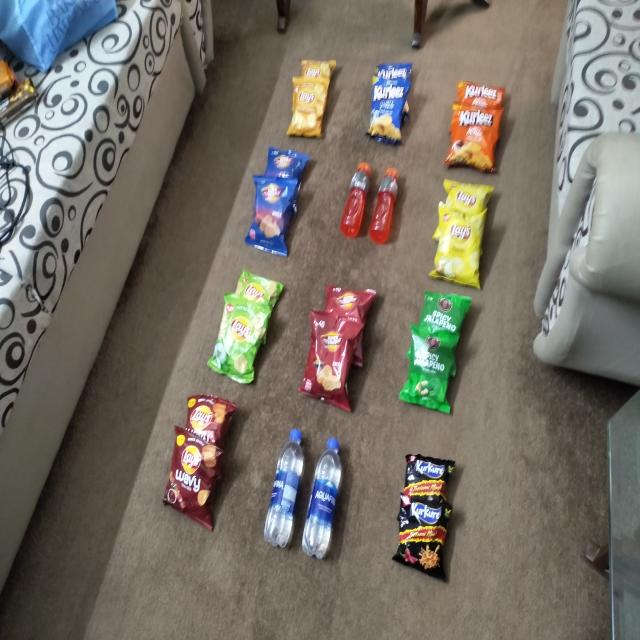Plastic: (307, 308, 363, 414), (162, 428, 220, 522), (262, 428, 304, 548), (406, 328, 458, 412), (248, 172, 298, 258), (212, 302, 264, 383), (311, 436, 344, 555), (437, 202, 480, 284), (402, 497, 448, 573), (451, 106, 497, 170), (370, 83, 408, 139), (185, 396, 232, 440), (407, 456, 455, 498), (292, 78, 326, 136), (344, 159, 368, 240), (374, 166, 398, 239), (328, 282, 378, 316), (425, 296, 472, 331), (237, 268, 284, 301), (446, 178, 496, 208), (266, 143, 310, 176), (457, 81, 504, 108), (303, 61, 337, 78), (378, 65, 412, 80)
